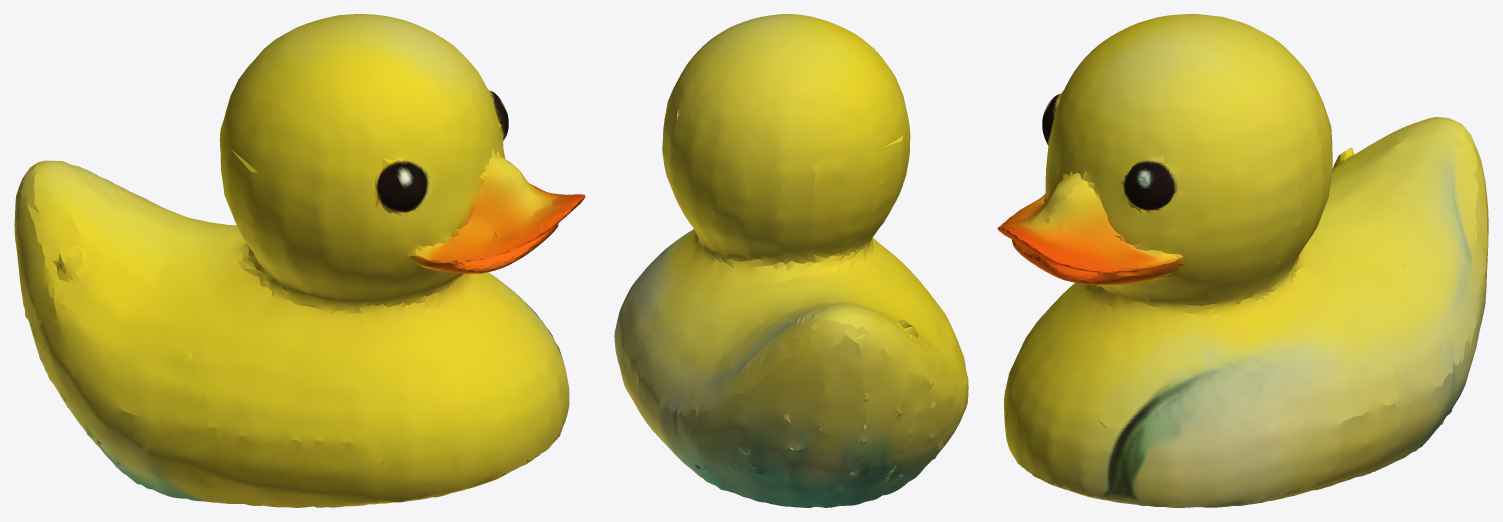
File: RubberDuck.glb
3 renders of one model, left to right at view 1: azimuth 30°, elevation 25°; view 2: azimuth 150°, elevation 25°; view 3: azimuth 270°, elevation 25°, orthographic. The views are drawn at different scales.
Parts seen in each view (by area): view 1: RubberDuck_Rodin; view 2: RubberDuck_Rodin; view 3: RubberDuck_Rodin.
Part boxes in pixels (<box>): RubberDuck_Rodin: <box>14,14,585,507</box>; RubberDuck_Rodin: <box>614,14,968,507</box>; RubberDuck_Rodin: <box>997,14,1488,507</box>.
Bounding box in the file's own units: 2.83 × 2.84 × 2.84.
Materials: 1 (1 with a texture image).
